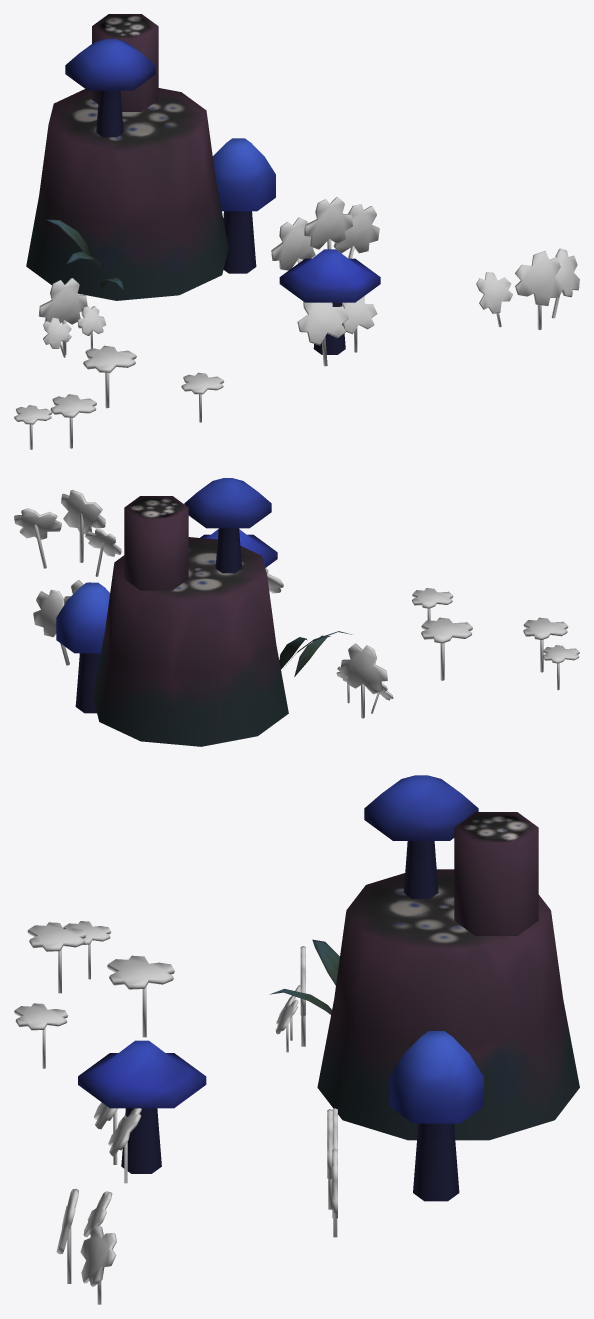
Rendered from Prop_fw_obj.fbx.
3 renders of one model, top to bottom at view 1: azimuth 30°, elevation 25°; view 2: azimuth 150°, elevation 25°; view 3: azimuth 270°, elevation 25°, orthographic. The views are drawn at different scales.
Visible parts, largest first — view 1: Prop_obj_6, Prop_obj_2, Prop_obj_4, Prop_obj_5, Prop_obj_1, Prop_obj_3; view 2: Prop_obj_6, Prop_obj_5, Prop_obj_4, Prop_obj_1, Prop_obj_2; view 3: Prop_obj_6, Prop_obj_5, Prop_obj_4, Prop_obj_3, Prop_obj_2, Prop_obj_1.
Part boxes in pixels (x1=…): Prop_obj_6: x1=26, y1=14, x2=380, y2=354; Prop_obj_2: x1=271, y1=197, x2=379, y2=270; Prop_obj_4: x1=476, y1=248, x2=579, y2=329; Prop_obj_5: x1=14, y1=345, x2=224, y2=449; Prop_obj_1: x1=38, y1=278, x2=106, y2=357; Prop_obj_3: x1=297, y1=296, x2=377, y2=366; Prop_obj_6: x1=56, y1=478, x2=351, y2=746; Prop_obj_5: x1=412, y1=588, x2=579, y2=690; Prop_obj_4: x1=14, y1=490, x2=121, y2=576; Prop_obj_1: x1=336, y1=643, x2=393, y2=718; Prop_obj_2: x1=33, y1=580, x2=90, y2=665; Prop_obj_6: x1=78, y1=775, x2=579, y2=1201; Prop_obj_5: x1=14, y1=921, x2=174, y2=1068; Prop_obj_4: x1=56, y1=1188, x2=116, y2=1304; Prop_obj_3: x1=94, y1=1102, x2=141, y2=1183; Prop_obj_2: x1=327, y1=1108, x2=337, y2=1237; Prop_obj_1: x1=275, y1=946, x2=305, y2=1052.
Size of the model in its own units: 10.46 by 4.6 by 7.08.
